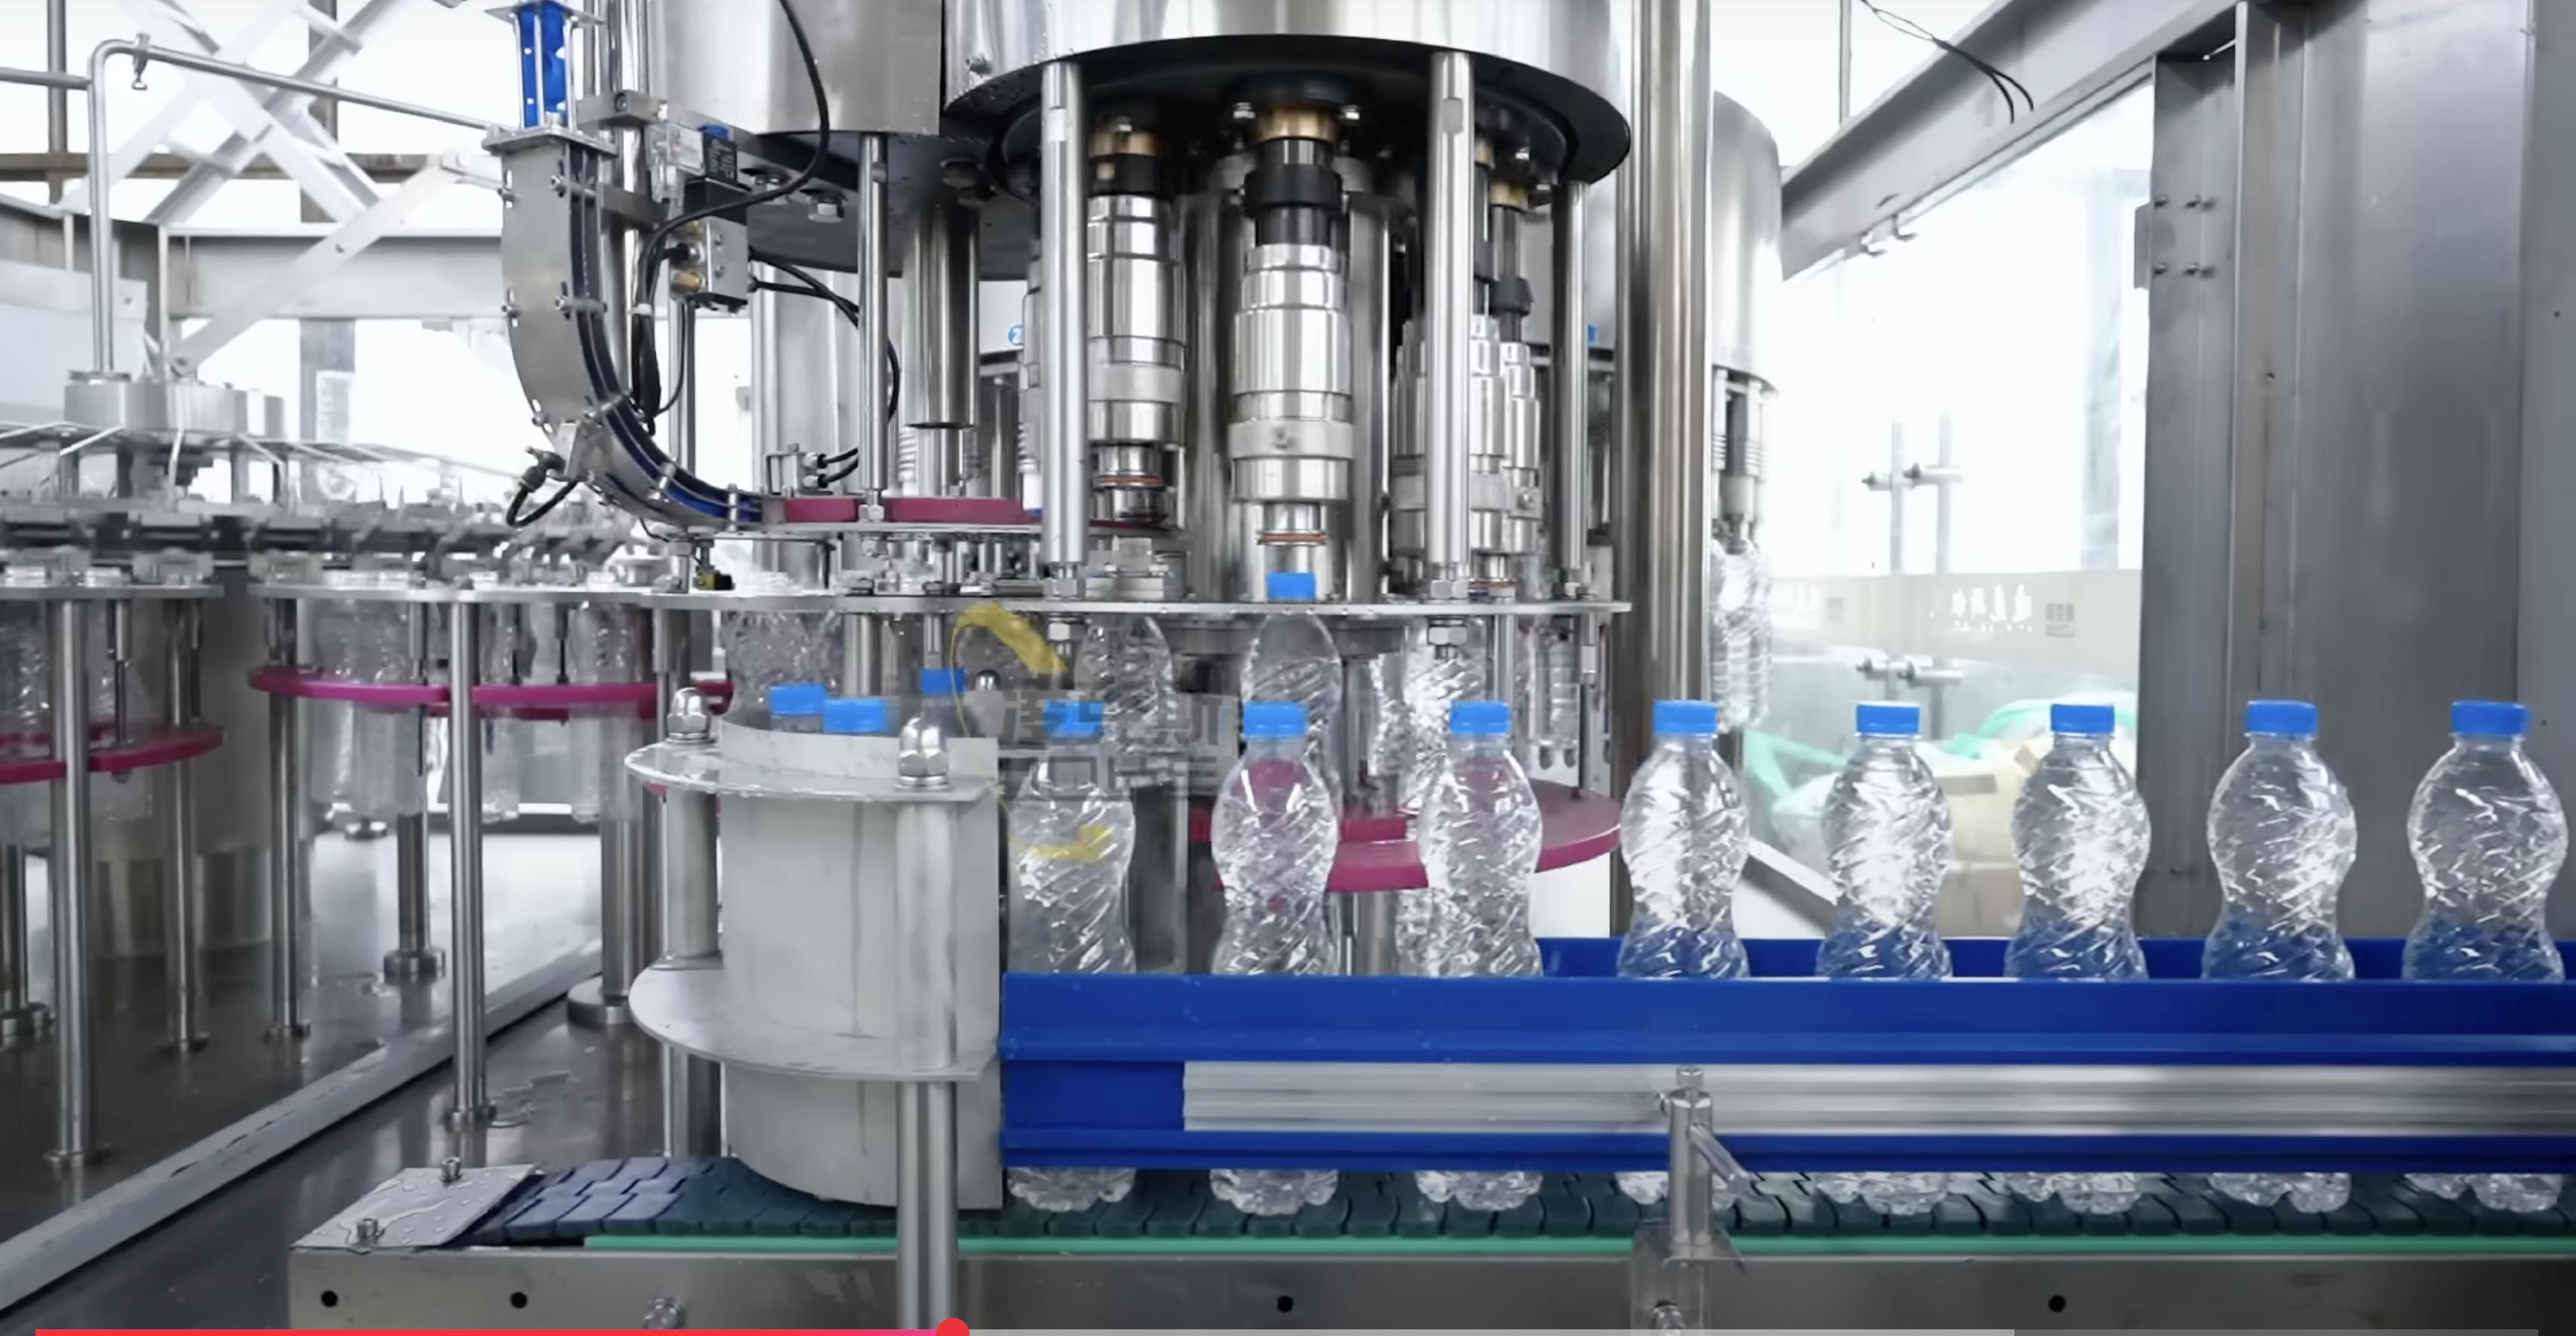bottle: (2195, 683, 2373, 980), (2396, 699, 2571, 980), (1604, 683, 1762, 978), (1810, 685, 1966, 978), (2004, 688, 2155, 978), (1209, 694, 1357, 975), (1410, 690, 1560, 963), (1005, 690, 1146, 973)
